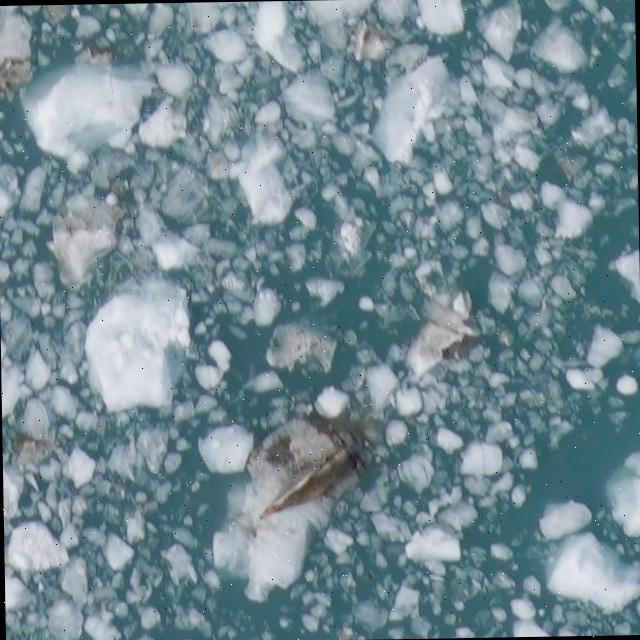seal: (260, 448, 349, 519)
